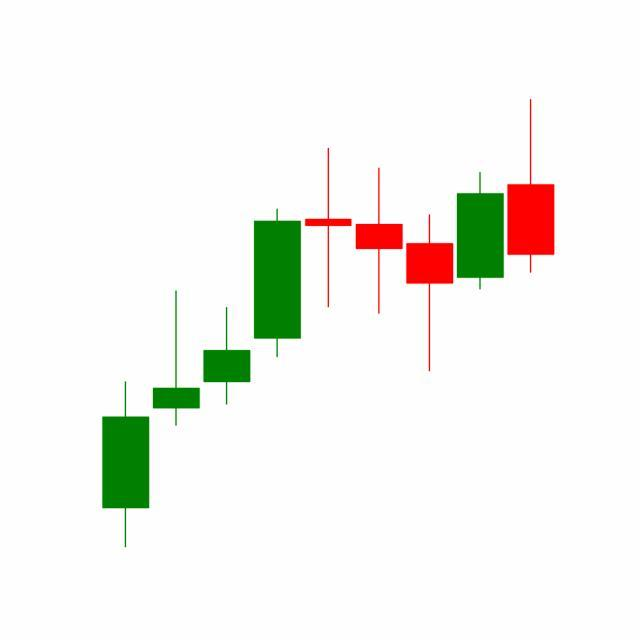Rising-Falling Three Methods: (252, 146, 506, 375)
